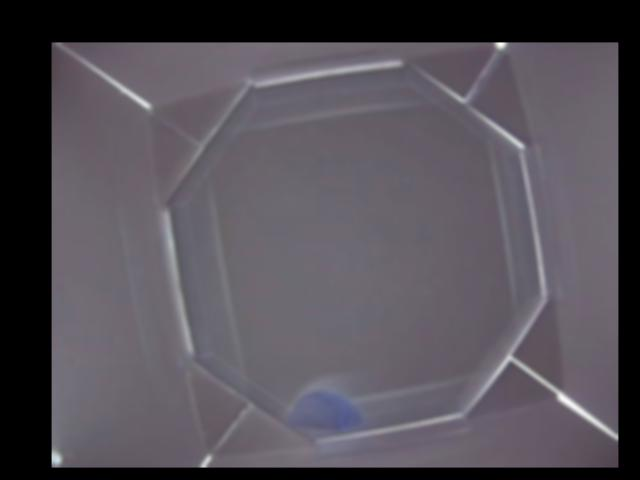Mooli: (287, 391, 366, 429)
